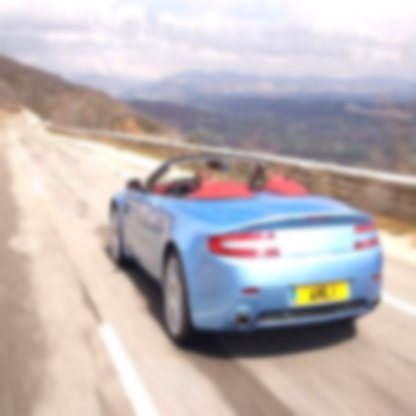Vehicle: (109, 160, 389, 361)
